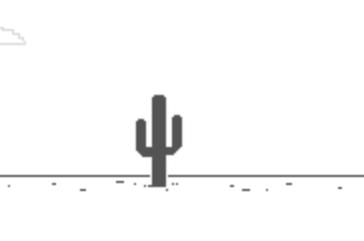cactus: (128, 91, 189, 195)
